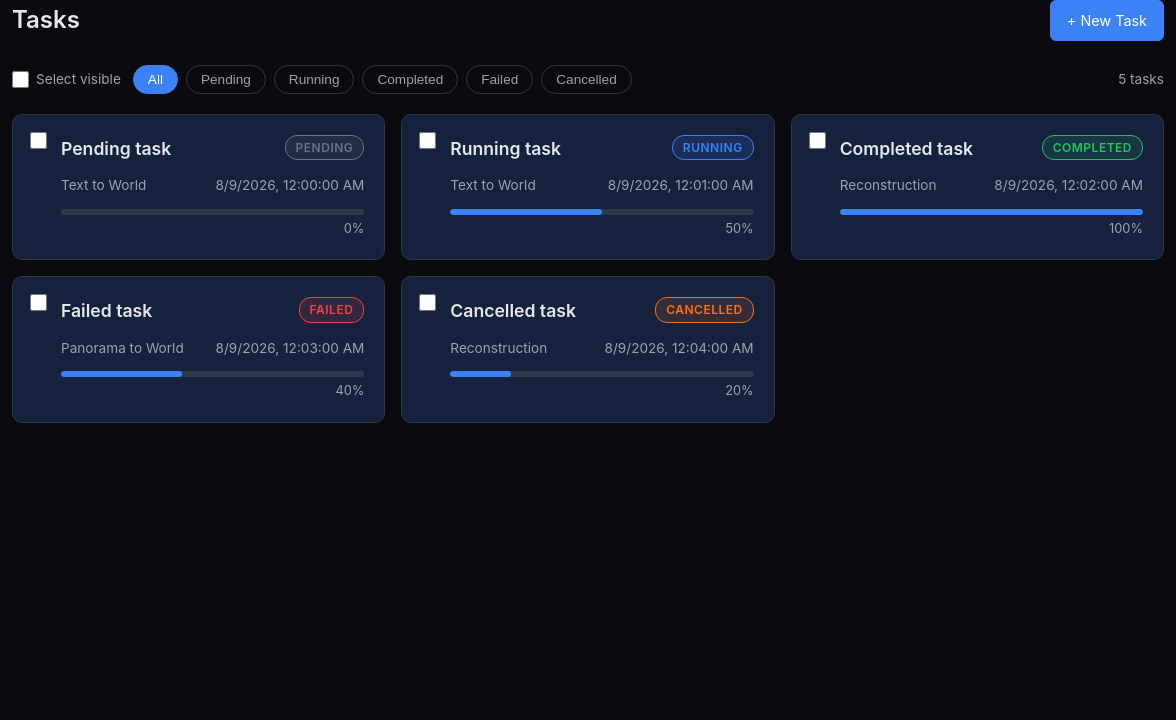
Scenario: TaskList batch actions › selecting a card checkbox does not navigate to its detail page
Expected: the heading "Tasks" is shown, x1=12 y1=1 x2=80 y2=40
Click the checkbox named "Select task Pending task": (38, 140) x1=30 y1=132 x2=47 y2=149
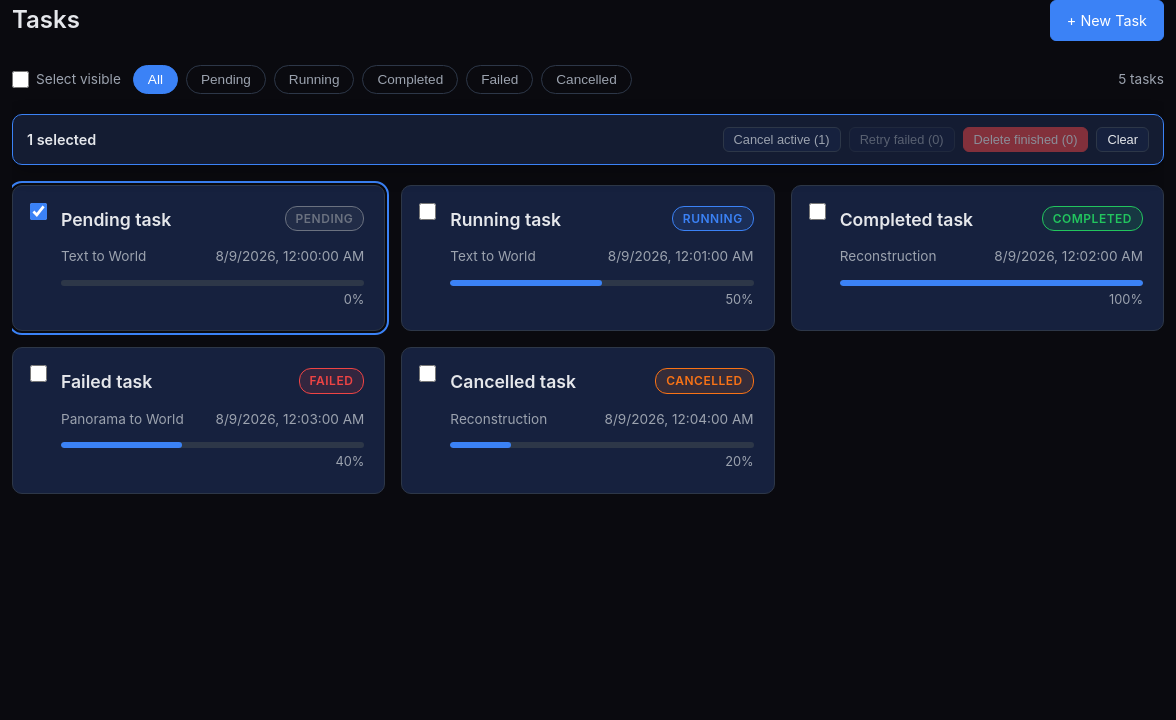
Expected: the heading "Tasks" is shown, x1=12 y1=1 x2=80 y2=40
Result: the text "1 selected" is shown at x1=27 y1=128 x2=96 y2=151
